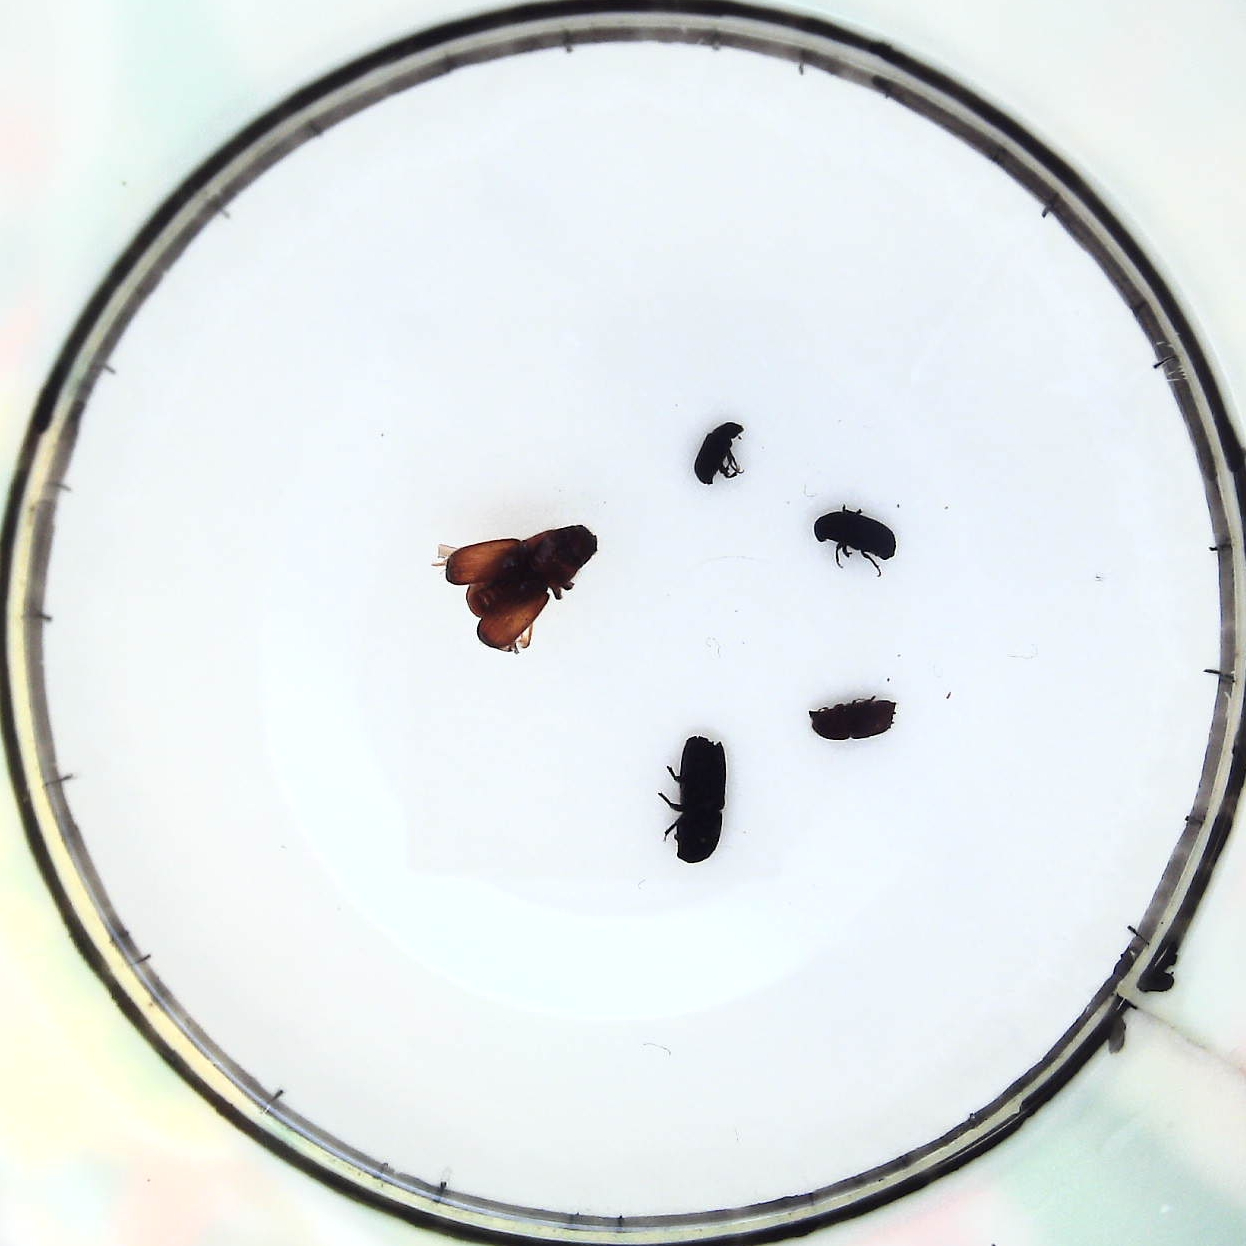Boerner: (665, 735, 727, 868)
Leconte: (438, 524, 597, 653)
Linnaeus: (802, 698, 896, 741)
armandi: (812, 507, 897, 567)
coleoptera: (697, 421, 744, 485)
